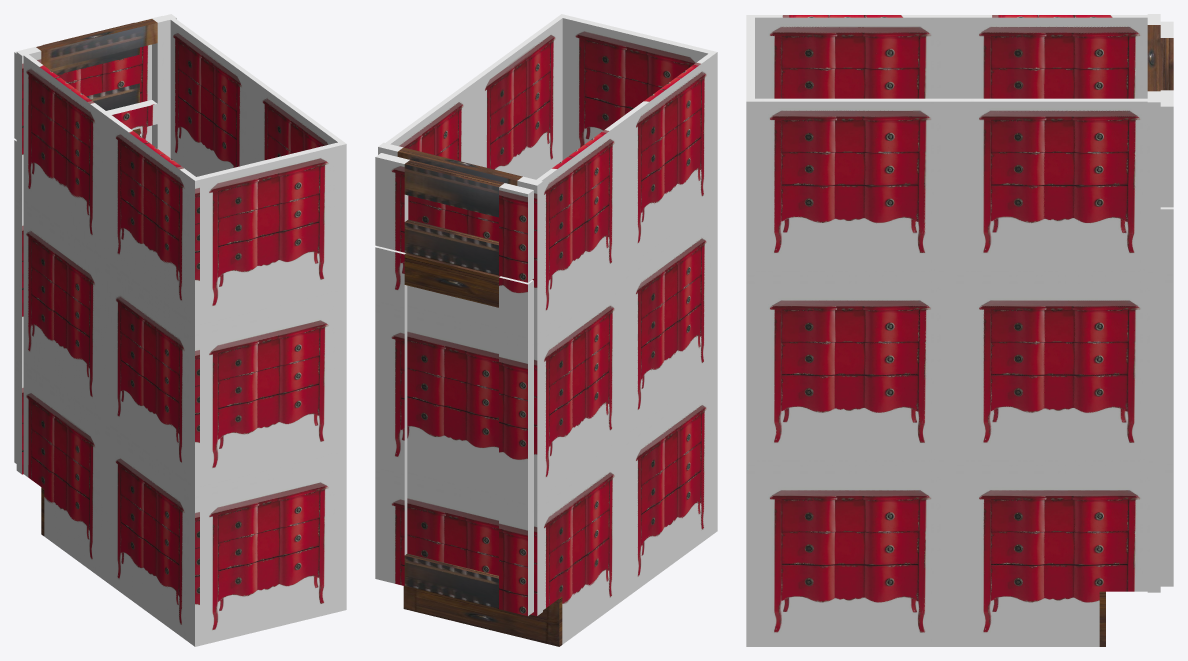
3 views of the same model, side by side, from view 1: azimuth 30°, elevation 25°; view 2: azimuth 150°, elevation 25°; view 3: azimuth 270°, elevation 25° (orthographic). The views are drawn at different scales.
Parts seen in each view (by area): view 1: mesh7_mesh7-geometry, mesh25_mesh25-geometry, mesh1_mesh1-geometry, mesh3_mesh3-geometry, mesh31_mesh31-geometry, mesh5_mesh5-geometry, mesh21_mesh21-geometry, mesh37_mesh37-geometry, mesh11_mesh11-geometry, mesh19_mesh19-geometry, mesh17_mesh17-geometry, mesh13_mesh13-geometry; view 2: mesh7_mesh7-geometry, mesh29_mesh29-geometry, mesh1_mesh1-geometry, mesh11_mesh11-geometry, mesh25_mesh25-geometry, mesh9_mesh9-geometry, mesh33_mesh33-geometry, mesh3_mesh3-geometry, mesh17_mesh17-geometry, mesh19_mesh19-geometry, mesh15_mesh15-geometry, mesh27_mesh27-geometry (+4 smaller); view 3: mesh1_mesh1-geometry, mesh7_mesh7-geometry, mesh5_mesh5-geometry, mesh9_mesh9-geometry, mesh13_mesh13-geometry, mesh31_mesh31-geometry, mesh17_mesh17-geometry, mesh25_mesh25-geometry.
Boxes of the visible parts, <box> form: mesh7_mesh7-geometry: <box>23,54,199,646</box>; mesh25_mesh25-geometry: <box>196,142,341,645</box>; mesh1_mesh1-geometry: <box>170,18,346,610</box>; mesh3_mesh3-geometry: <box>16,47,41,474</box>; mesh31_mesh31-geometry: <box>36,19,157,69</box>; mesh5_mesh5-geometry: <box>152,14,176,157</box>; mesh21_mesh21-geometry: <box>57,54,139,96</box>; mesh37_mesh37-geometry: <box>106,100,157,130</box>; mesh11_mesh11-geometry: <box>14,139,16,463</box>; mesh19_mesh19-geometry: <box>86,83,139,110</box>; mesh17_mesh17-geometry: <box>43,22,139,74</box>; mesh13_mesh13-geometry: <box>135,16,162,102</box>; mesh7_mesh7-geometry: <box>536,51,717,644</box>; mesh29_mesh29-geometry: <box>407,285,498,575</box>; mesh1_mesh1-geometry: <box>386,14,565,179</box>; mesh11_mesh11-geometry: <box>499,276,533,615</box>; mesh25_mesh25-geometry: <box>562,15,712,159</box>; mesh9_mesh9-geometry: <box>375,246,407,585</box>; mesh33_mesh33-geometry: <box>403,586,562,646</box>; mesh3_mesh3-geometry: <box>517,176,542,615</box>; mesh17_mesh17-geometry: <box>404,160,504,217</box>; mesh19_mesh19-geometry: <box>404,219,498,275</box>; mesh15_mesh15-geometry: <box>499,183,533,282</box>; mesh27_mesh27-geometry: <box>404,553,498,608</box>; mesh1_mesh1-geometry: <box>746,98,1147,646</box>; mesh7_mesh7-geometry: <box>746,15,1147,98</box>; mesh5_mesh5-geometry: <box>1147,91,1160,592</box>; mesh9_mesh9-geometry: <box>1160,207,1173,586</box>; mesh13_mesh13-geometry: <box>1160,90,1173,207</box>; mesh31_mesh31-geometry: <box>1147,25,1160,91</box>; mesh17_mesh17-geometry: <box>1160,38,1173,90</box>; mesh25_mesh25-geometry: <box>746,17,754,98</box>.
Bounding box in the file's own units: 0.2728 × 0.7844 × 0.557.
